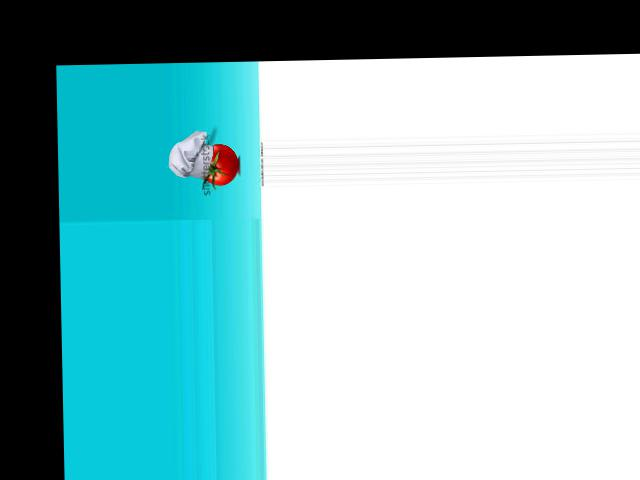tomato: (203, 143, 237, 184)
